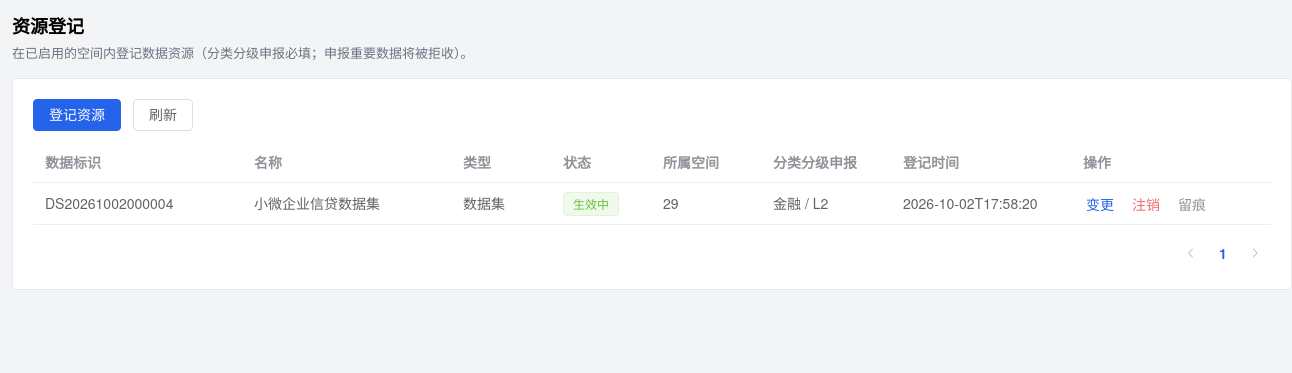
Test: 变更与注销（T12） › 注销确认后提交：confirmCancellation=true；引用保护 1007C0021 原样展示
Click the button with class "cancel-btn": (1146, 205) [1129, 195, 1163, 215]
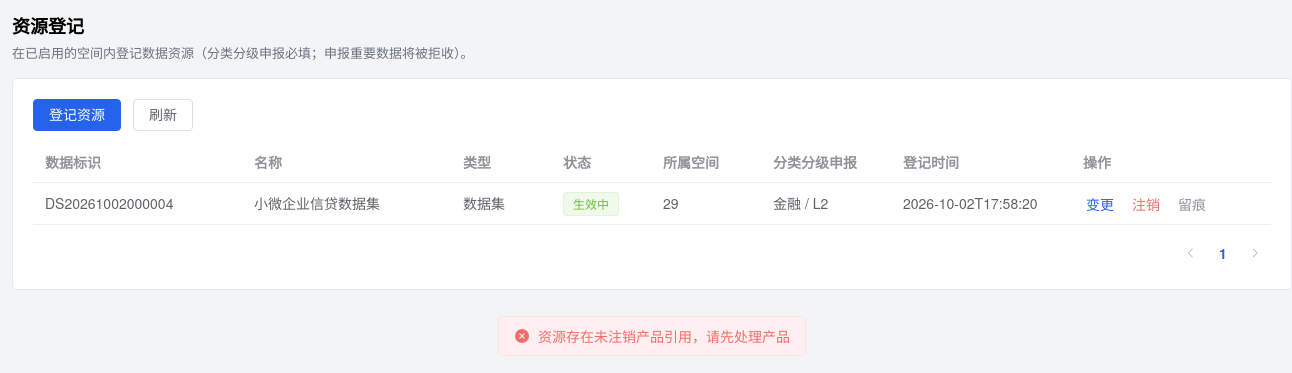
Check: the text "资源存在未注销产品引用，请先处理产品" is shown, box [538, 329, 790, 343]
